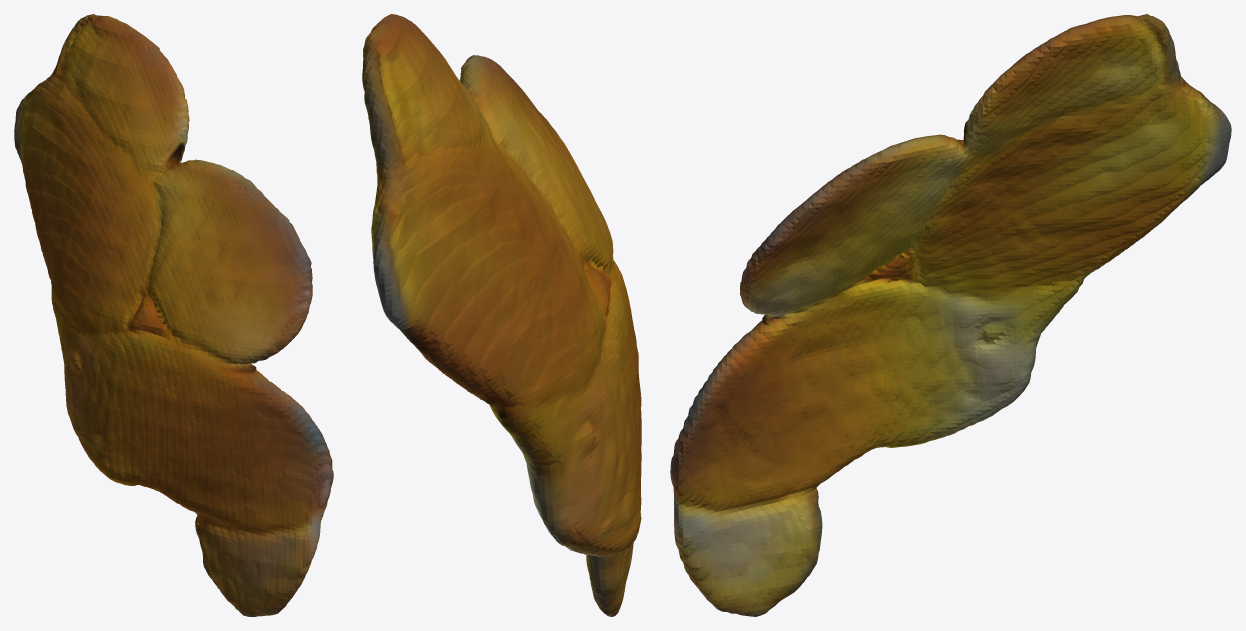
The picture shows the model from 3 angles, left to right: view 1: azimuth 30°, elevation 25°; view 2: azimuth 150°, elevation 25°; view 3: azimuth 270°, elevation 25°; orthographic projection. The views are drawn at different scales.
Size of the model in its own units: 0.305 by 0.9424 by 0.7924.
